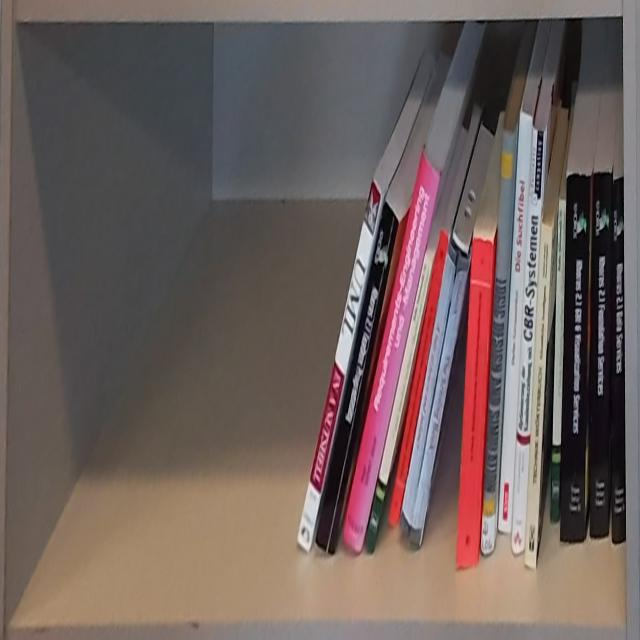Book Spine: (343, 147, 441, 552), (296, 179, 383, 554), (314, 199, 400, 559), (364, 253, 435, 557), (388, 226, 451, 526), (398, 243, 457, 541), (411, 257, 471, 545), (480, 126, 516, 559), (498, 109, 533, 535), (511, 125, 545, 554), (457, 239, 494, 573), (560, 172, 591, 545), (524, 224, 552, 571), (588, 171, 613, 542), (549, 199, 566, 524), (612, 174, 626, 546)
